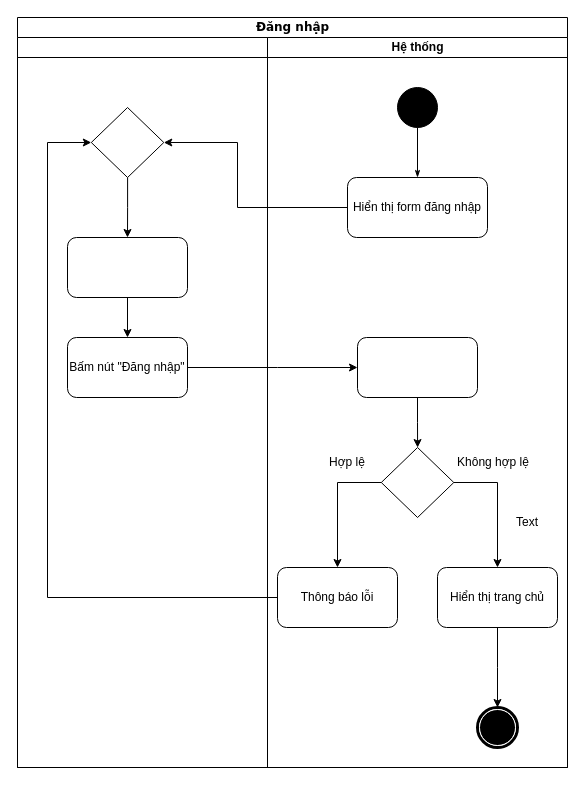
Some shapes in this 585 by 785 pixel diagram are drawn without their labels. The shapes that lost their labels are listed below. From the top down, each one's box as (x1, y1, x2, y2) in pixels, then its label:
(66, 236, 188, 298): Điền thông tin vào form đăng nhập
(356, 336, 478, 398): Kiểm tra thông tin
(16, 36, 268, 768): User
